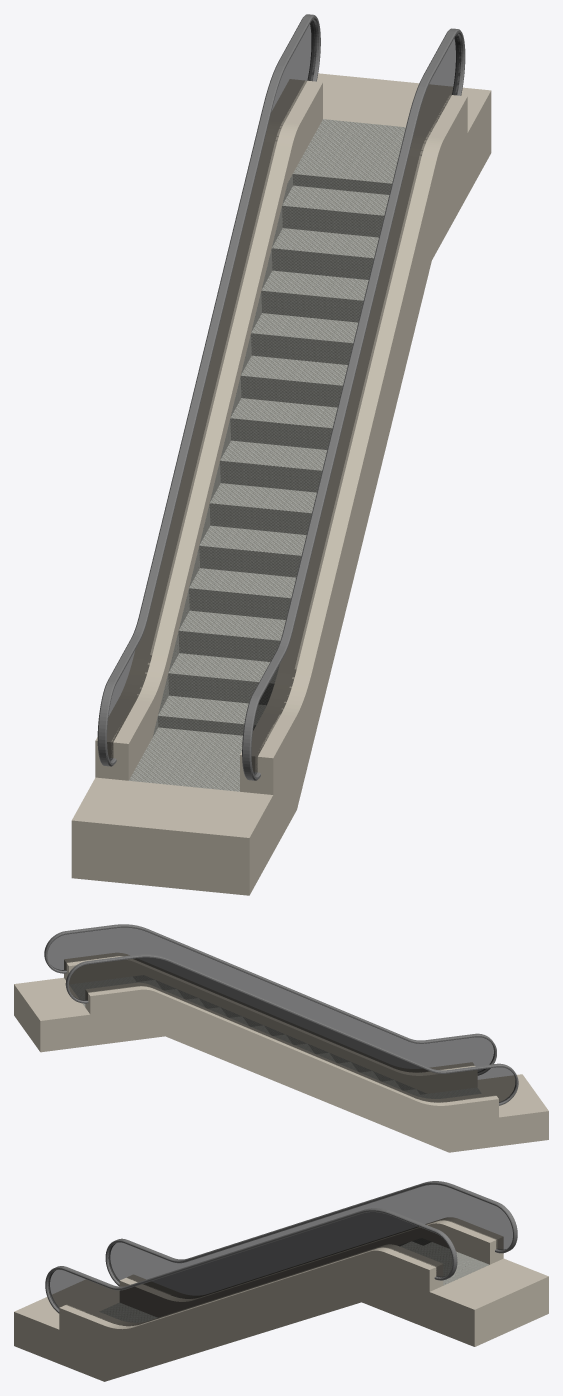
Rendered from asset.glb.
The picture shows the model from 3 angles, top to bottom: view 1: azimuth 30°, elevation 25°; view 2: azimuth 150°, elevation 25°; view 3: azimuth 270°, elevation 25°; orthographic projection. The views are drawn at different scales.
Parts seen in each view (by area): view 1: Mesh5_Metal_17_0, Mesh8_Plastic_44_0, Mesh2_Plastic_44_0, Mesh1_Plastic_44_0, Mesh7_Plastic_44_0, Mesh3_clear_glass_0, Mesh9_clear_glass_0, Mesh10_Plastic_47_0, Mesh4_Plastic_47_0, Mesh6_Metal_17_0; view 2: Mesh1_Plastic_44_0, Mesh9_clear_glass_0, Mesh3_clear_glass_0, Mesh8_Plastic_44_0, Mesh2_Plastic_44_0, Mesh7_Plastic_44_0, Mesh10_Plastic_47_0, Mesh4_Plastic_47_0, Mesh5_Metal_17_0, Mesh6_Metal_17_0; view 3: Mesh1_Plastic_44_0, Mesh3_clear_glass_0, Mesh9_clear_glass_0, Mesh2_Plastic_44_0, Mesh8_Plastic_44_0, Mesh7_Plastic_44_0, Mesh4_Plastic_47_0, Mesh10_Plastic_47_0, Mesh5_Metal_17_0.
Part boxes in pixels (bbox=[...]): Mesh5_Metal_17_0: bbox=[129, 119, 405, 791]; Mesh8_Plastic_44_0: bbox=[95, 79, 322, 780]; Mesh2_Plastic_44_0: bbox=[240, 93, 467, 794]; Mesh1_Plastic_44_0: bbox=[71, 91, 491, 895]; Mesh7_Plastic_44_0: bbox=[72, 73, 490, 837]; Mesh3_clear_glass_0: bbox=[251, 34, 461, 774]; Mesh9_clear_glass_0: bbox=[107, 20, 316, 761]; Mesh10_Plastic_47_0: bbox=[97, 14, 320, 766]; Mesh4_Plastic_47_0: bbox=[242, 28, 465, 780]; Mesh6_Metal_17_0: bbox=[153, 174, 293, 736]; Mesh1_Plastic_44_0: bbox=[14, 984, 548, 1152]; Mesh9_clear_glass_0: bbox=[69, 957, 515, 1102]; Mesh3_clear_glass_0: bbox=[47, 927, 494, 1072]; Mesh8_Plastic_44_0: bbox=[85, 983, 498, 1123]; Mesh2_Plastic_44_0: bbox=[64, 953, 477, 1093]; Mesh7_Plastic_44_0: bbox=[14, 977, 548, 1117]; Mesh10_Plastic_47_0: bbox=[65, 954, 518, 1105]; Mesh4_Plastic_47_0: bbox=[44, 924, 496, 1075]; Mesh5_Metal_17_0: bbox=[69, 976, 481, 1098]; Mesh6_Metal_17_0: bbox=[133, 975, 426, 1094]; Mesh1_Plastic_44_0: bbox=[14, 1265, 548, 1381]; Mesh3_clear_glass_0: bbox=[48, 1212, 452, 1326]; Mesh9_clear_glass_0: bbox=[108, 1185, 512, 1298]; Mesh2_Plastic_44_0: bbox=[59, 1244, 443, 1347]; Mesh8_Plastic_44_0: bbox=[119, 1217, 503, 1317]; Mesh7_Plastic_44_0: bbox=[14, 1258, 548, 1329]; Mesh4_Plastic_47_0: bbox=[45, 1208, 457, 1313]; Mesh10_Plastic_47_0: bbox=[105, 1181, 517, 1286]; Mesh5_Metal_17_0: bbox=[99, 1241, 489, 1322].
Size of the model in its own units: 7.54 by 4.51 by 7.89.
Materials: 4 (1 with a texture image).
